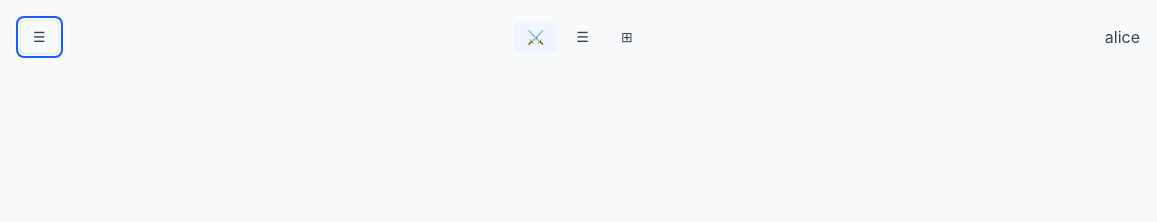
Test: Header hamburger menu › "Sync to BGG" item is enabled when dirtyGameIds is non-empty and sessionId present
What coordinates should you click on to do the following:
click the button named "menu"
I would click on:
 (39, 37)
Its box is [20,20,59,54].
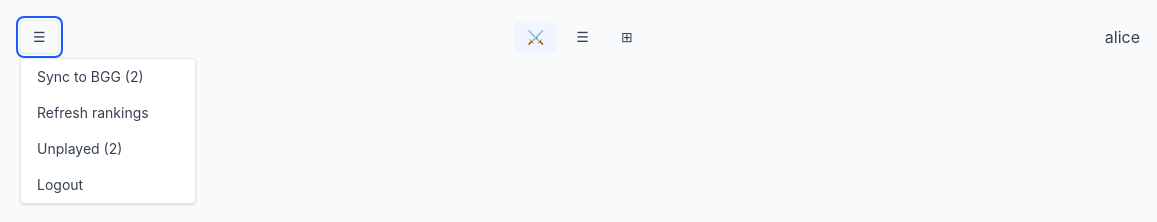
Expected: the button "Sync to BGG (2)" is enabled, [21,59,195,95]
